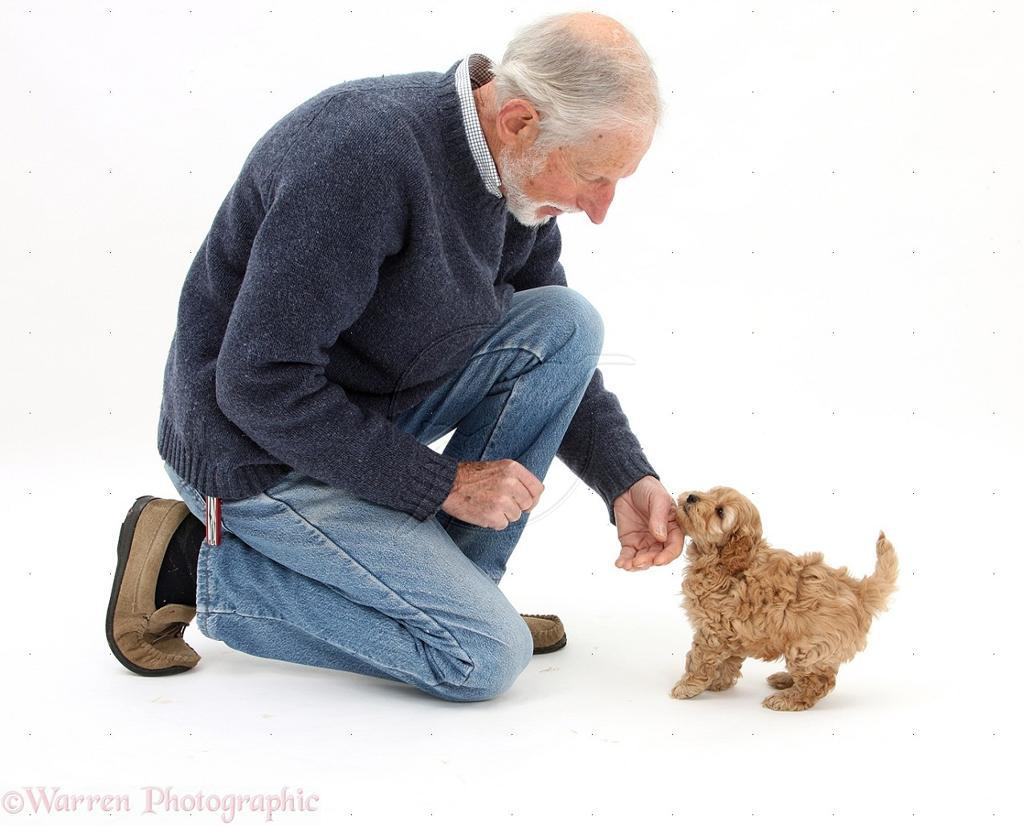face: (503, 123, 649, 229)
